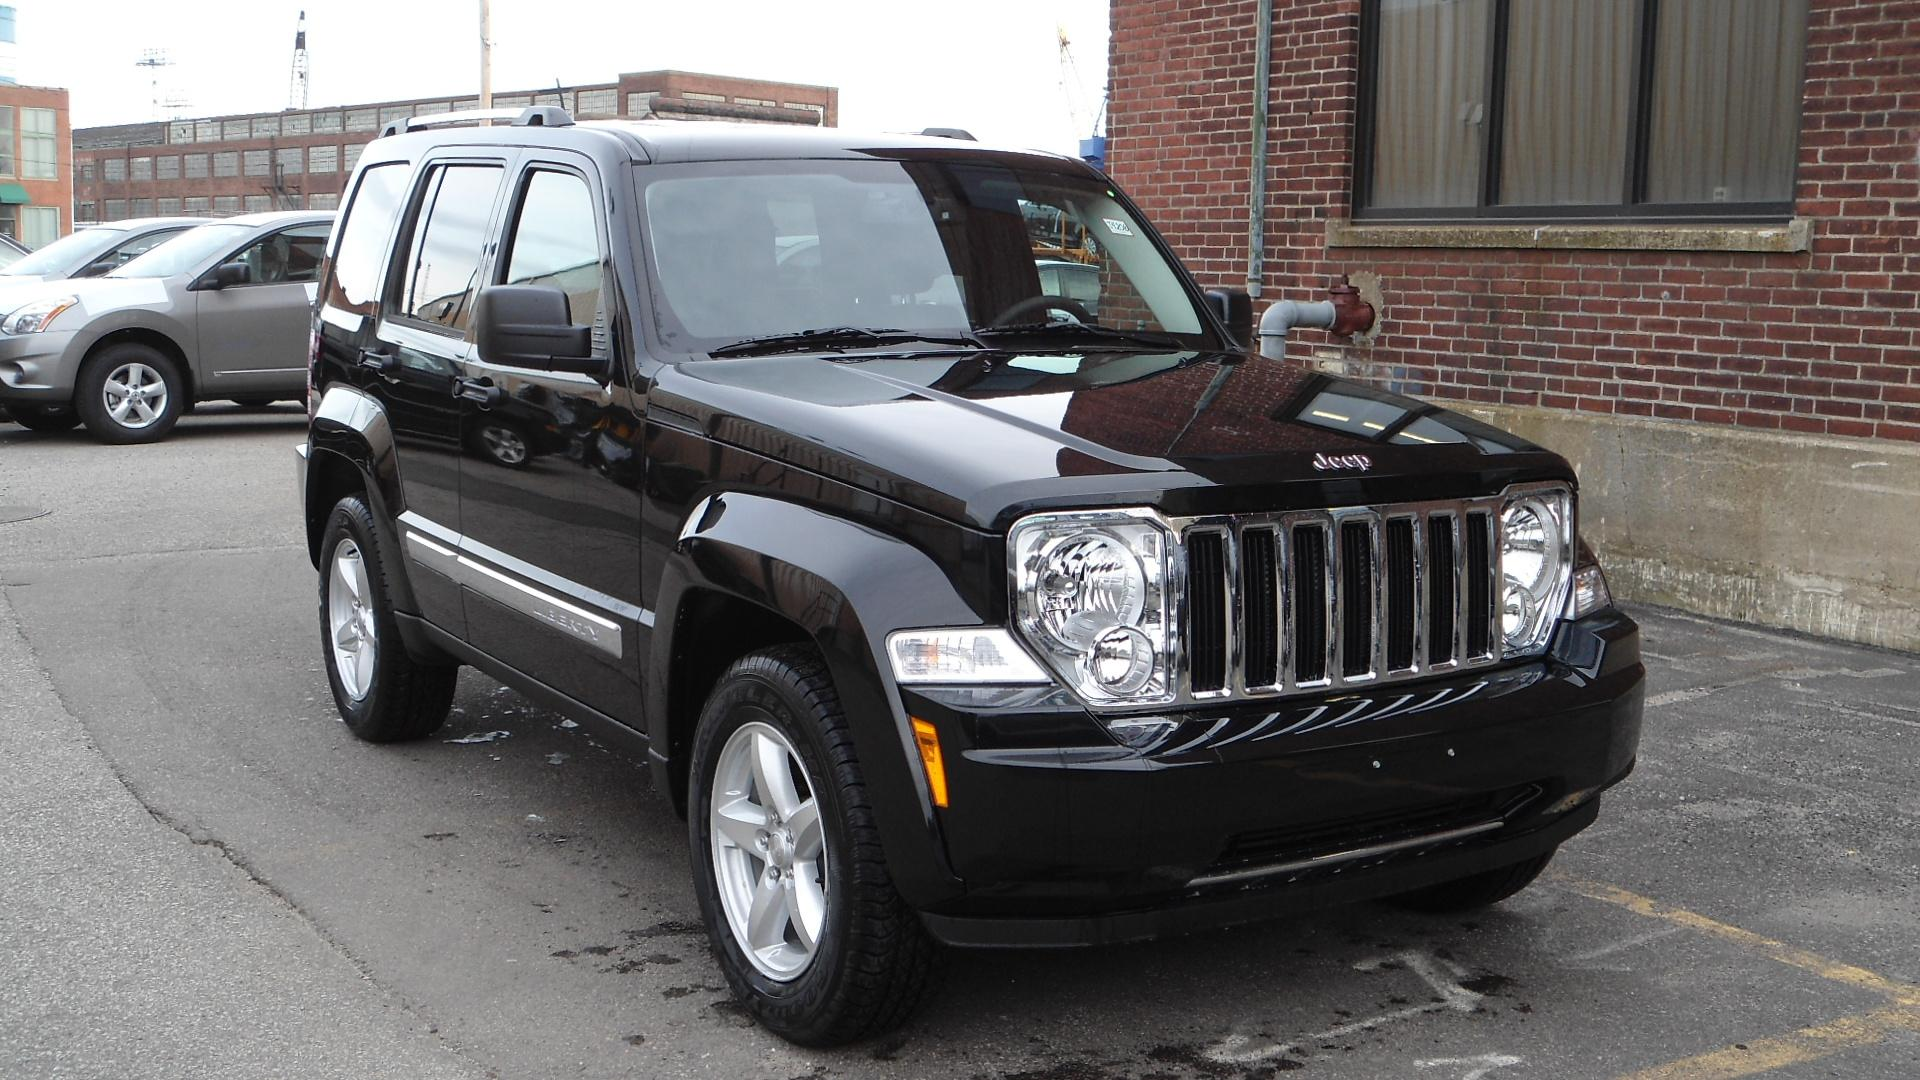Car: (291, 84, 1698, 1080), (7, 208, 411, 444)
